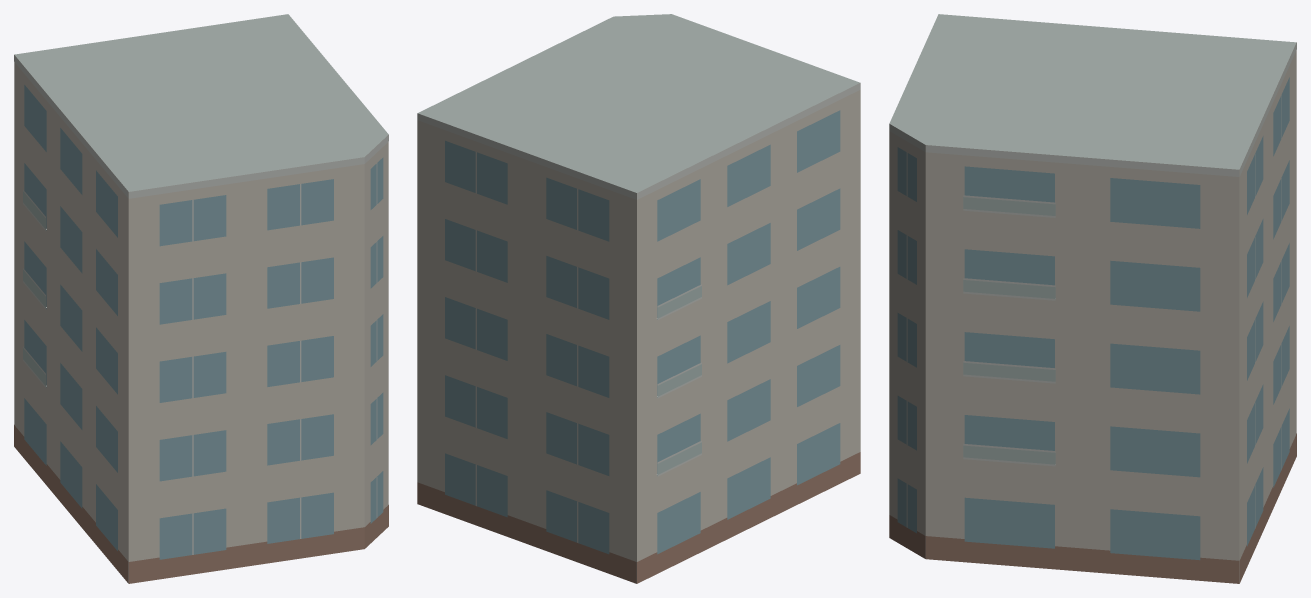
Rendered from survey-upis-32539420.glb.
3 views of the same model, side by side, from view 1: azimuth 30°, elevation 25°; view 2: azimuth 150°, elevation 25°; view 3: azimuth 270°, elevation 25° (orthographic). The views are drawn at different scales.
Parts seen in each view (by area): view 1: survey-upis-32539420.tmp; view 2: survey-upis-32539420.tmp; view 3: survey-upis-32539420.tmp.
Part boxes in pixels (bbox=[...]): survey-upis-32539420.tmp: bbox=[14, 14, 388, 583]; survey-upis-32539420.tmp: bbox=[417, 14, 860, 583]; survey-upis-32539420.tmp: bbox=[889, 14, 1296, 583].
Bounding box in the file's own units: 11.14 × 13.8 × 12.31.
